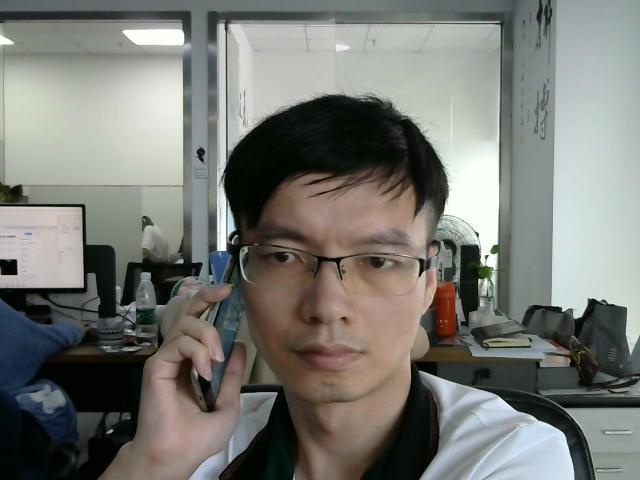hand: (146, 283, 249, 448)
